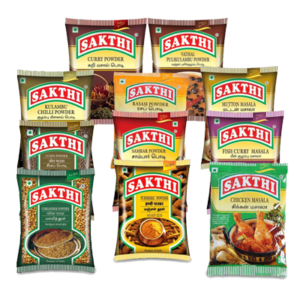VEG: (19, 76, 26, 84), (121, 166, 128, 174), (72, 26, 79, 33), (26, 129, 33, 136), (155, 27, 162, 33), (211, 167, 218, 173), (173, 120, 178, 128), (27, 179, 32, 187), (120, 78, 126, 84), (209, 74, 214, 81), (215, 117, 219, 125)
